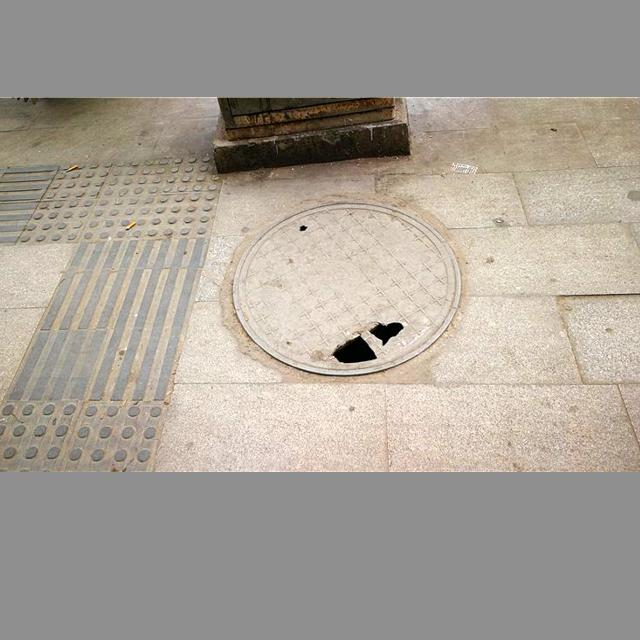broke: (233, 198, 461, 375)
